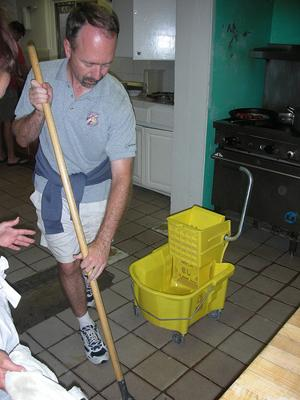person: (12, 5, 138, 366)
